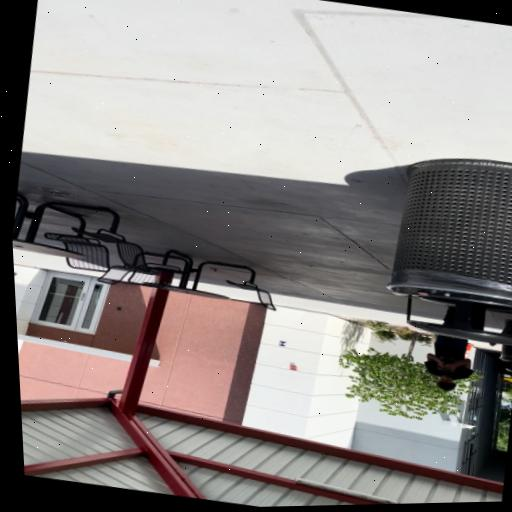target2: (276, 340, 288, 347)
